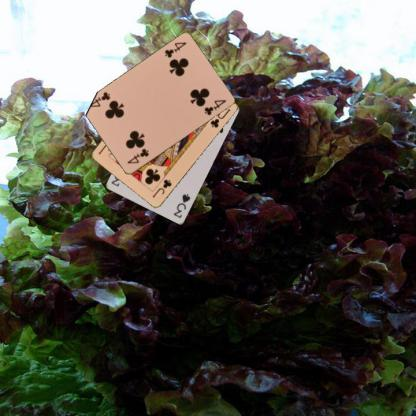3s: (171, 191, 192, 220)
4c: (162, 40, 188, 60), (124, 146, 150, 165)
Jc: (150, 177, 172, 199)
